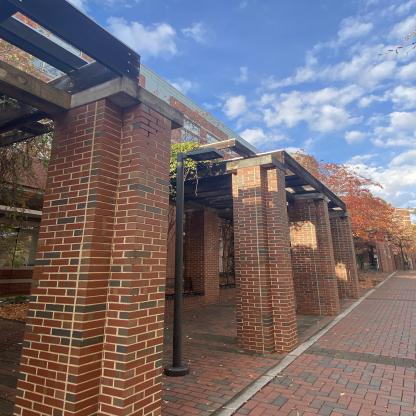EB-1: (4, 8, 404, 330)
